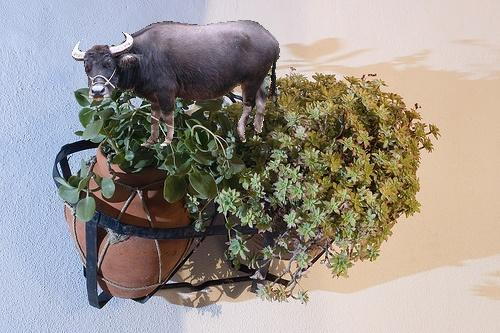tampered: (73, 21, 280, 146)
